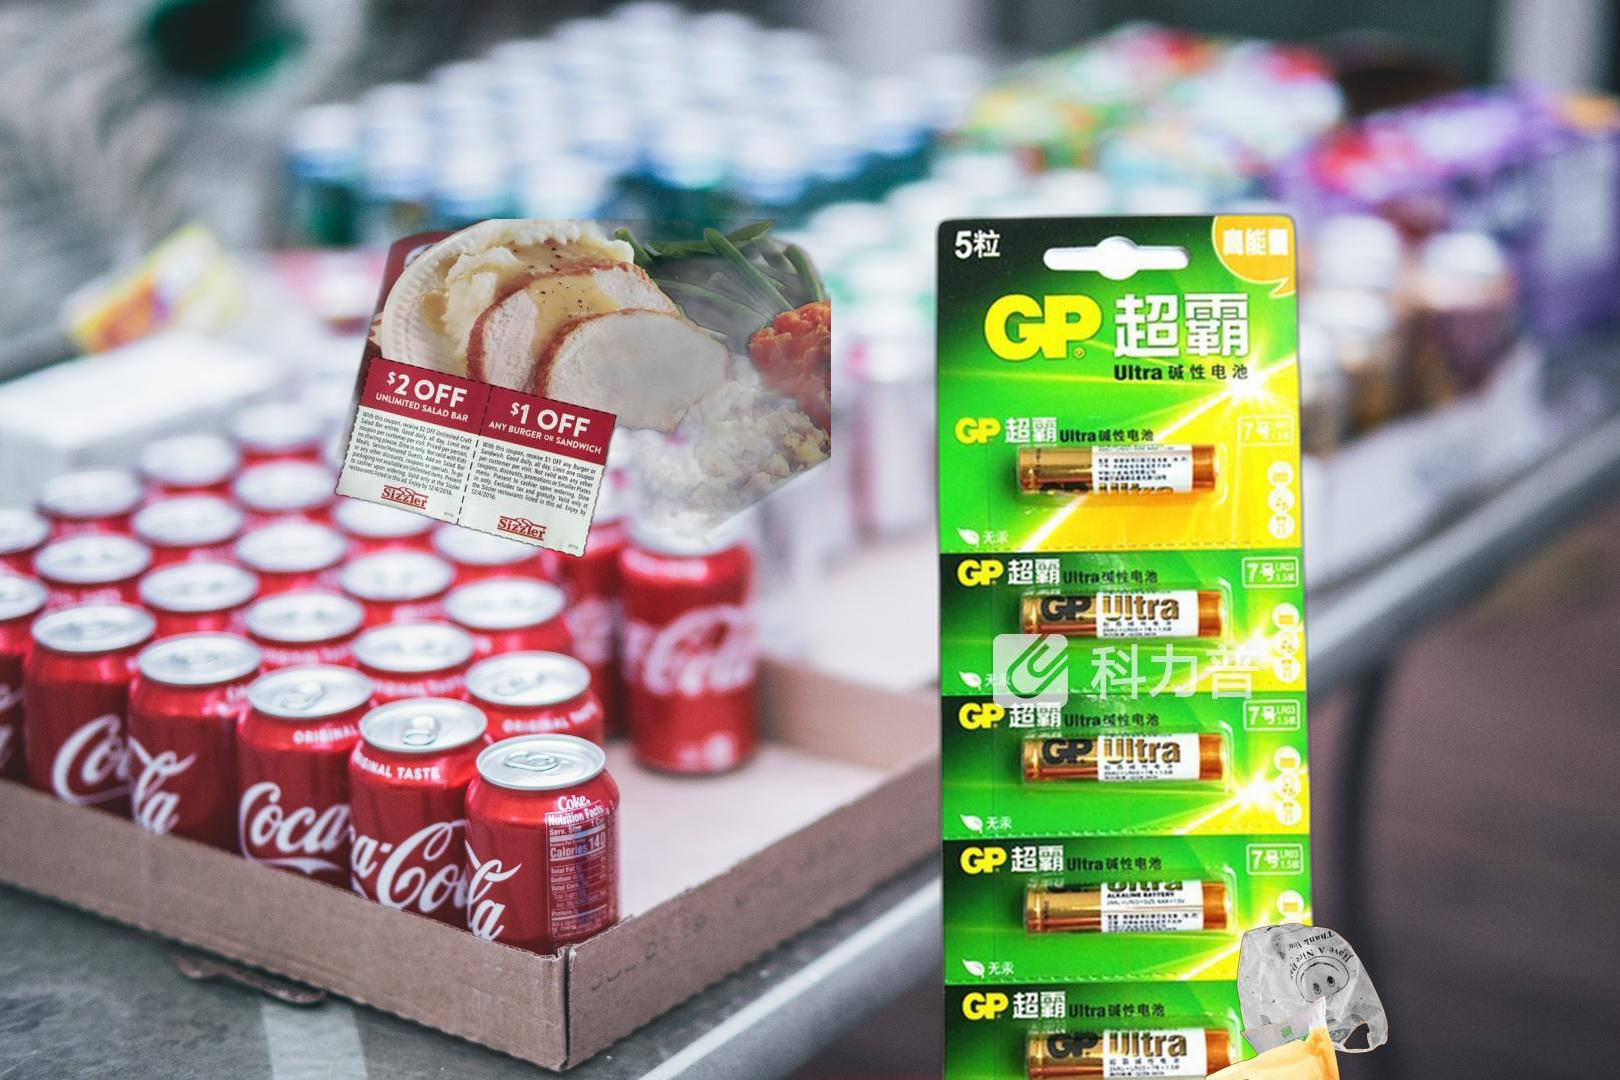battery: (926, 205, 1327, 1080)
paper: (319, 219, 830, 603)
plastic-bag: (1202, 921, 1391, 1080)
